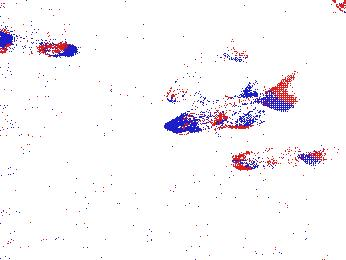X-ray fish: (313, 224, 346, 260)
red belly glassfish: (2, 30, 78, 60)
redtail glassfish: (165, 80, 292, 137), (165, 39, 245, 105), (231, 145, 321, 173)
